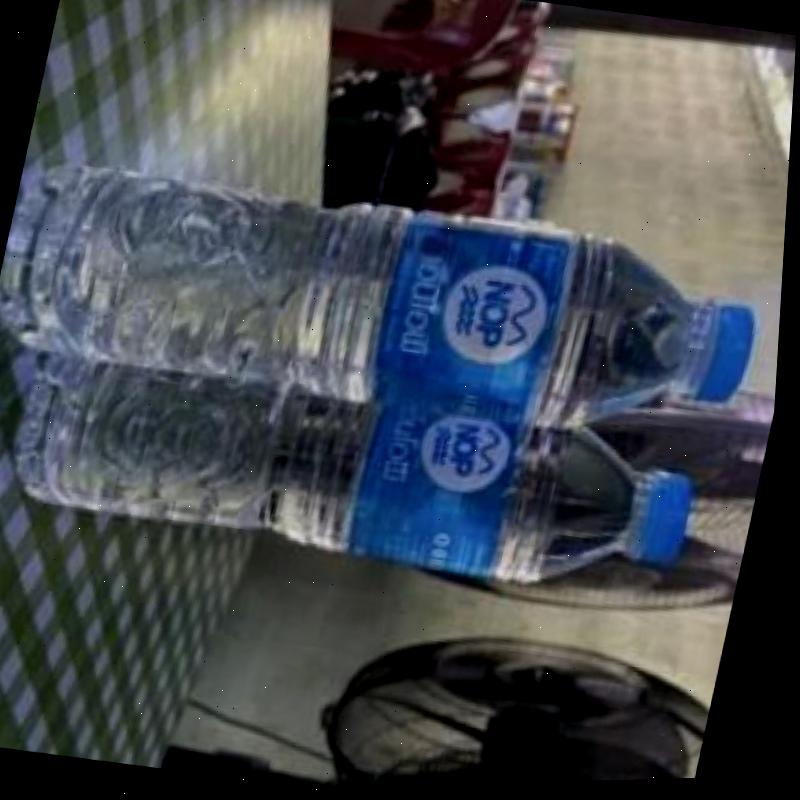botella: (279, 190, 780, 466), (252, 380, 714, 618)
